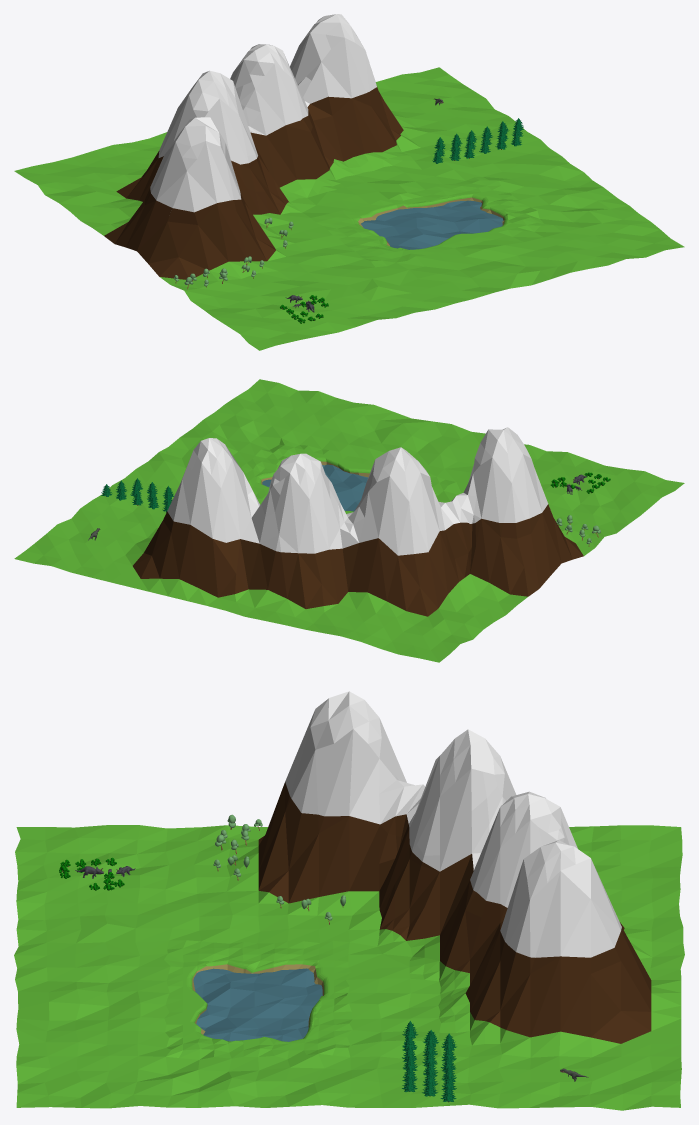
The model's file is past_static.fbx.
3 views of the same model, one above another, from view 1: azimuth 30°, elevation 25°; view 2: azimuth 150°, elevation 25°; view 3: azimuth 270°, elevation 25° (orthographic). The views are drawn at different scales.
Parts seen in each view (by area): view 1: Plane; view 2: Plane; view 3: Plane.
Boxes of the visible parts, x1,y1,x2,y2 form: Plane: (14,14,684,350); Plane: (14,379,684,662); Plane: (14,691,684,1110).
Size of the model in its own units: 23241 by 7635 by 23298.
